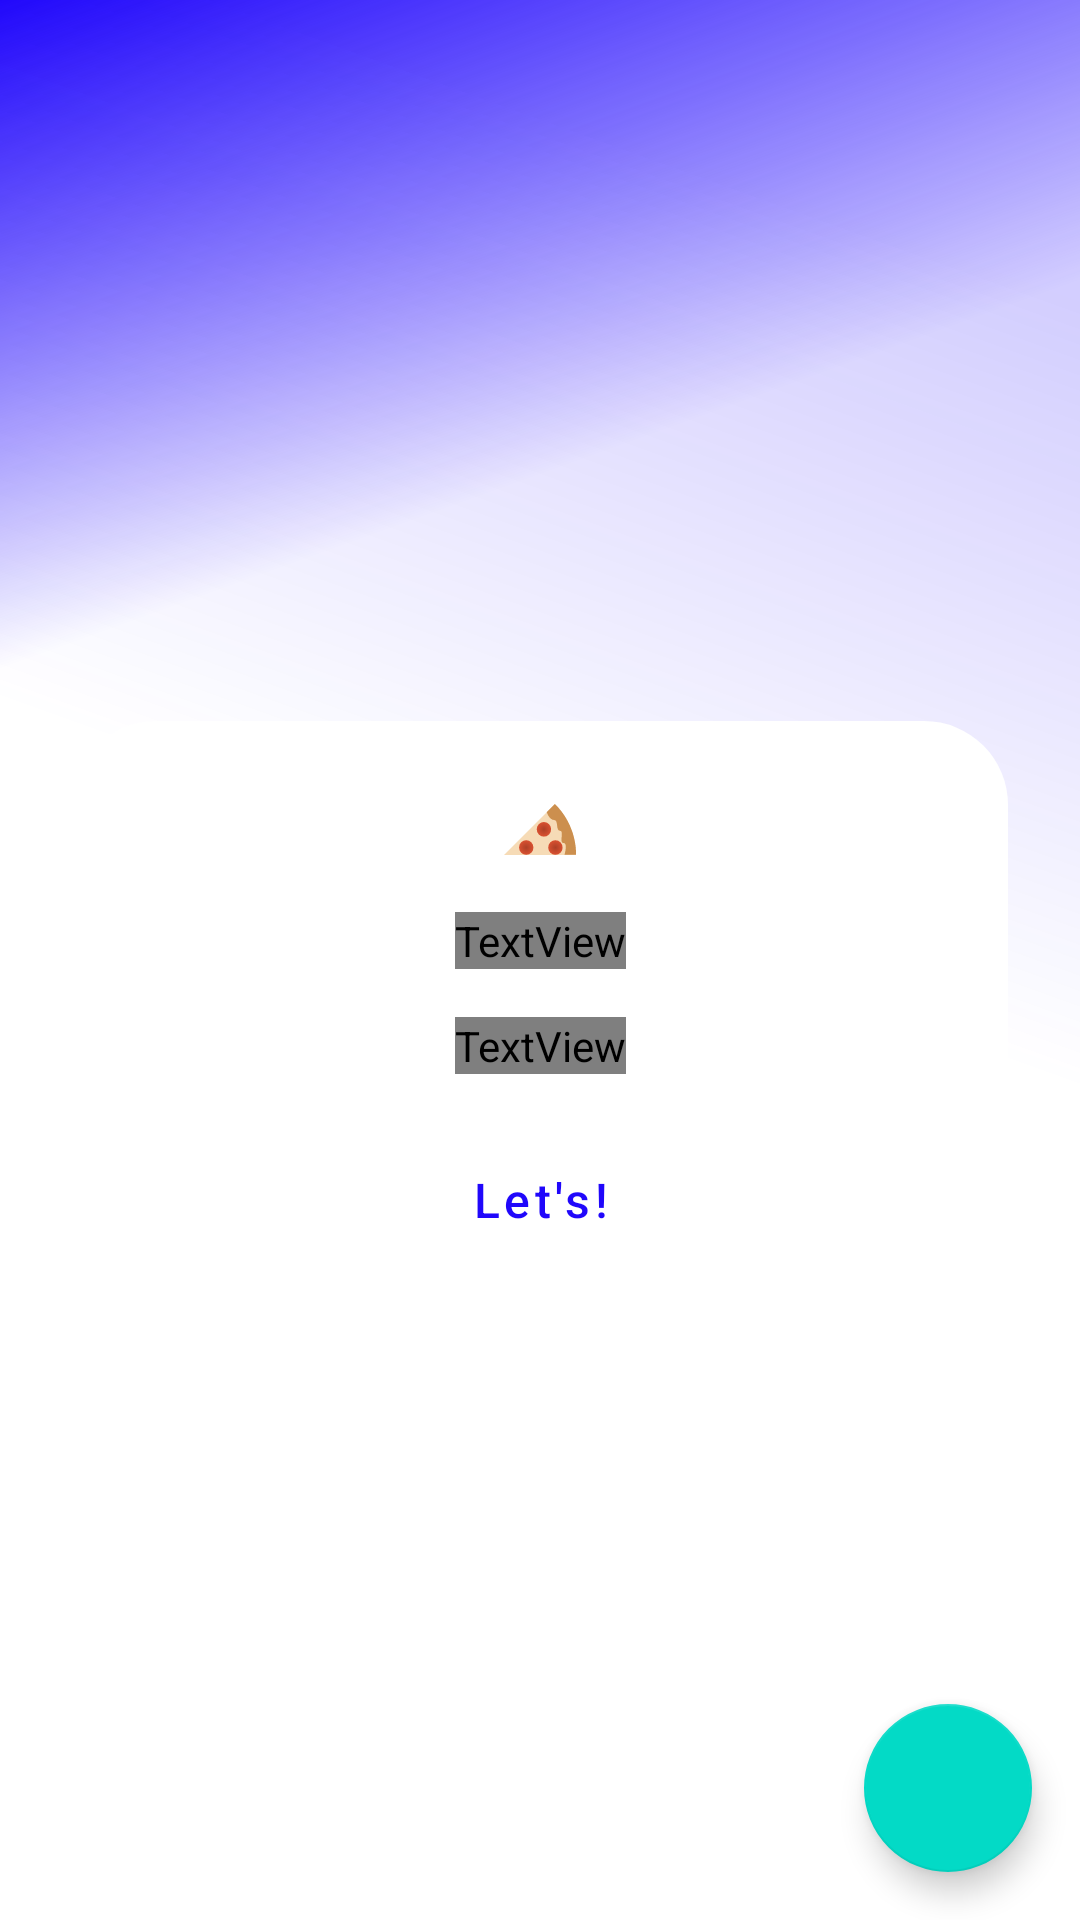

Where to tap for icons on this 1080x1920 app screen, as [x,y]:
pizza: [540,829]
